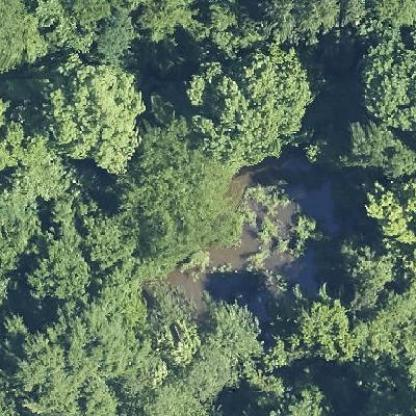tree-top: (121, 121, 245, 264), (180, 40, 312, 170), (45, 51, 152, 175), (357, 35, 415, 133), (293, 293, 359, 363), (25, 238, 95, 302), (361, 179, 415, 248)
